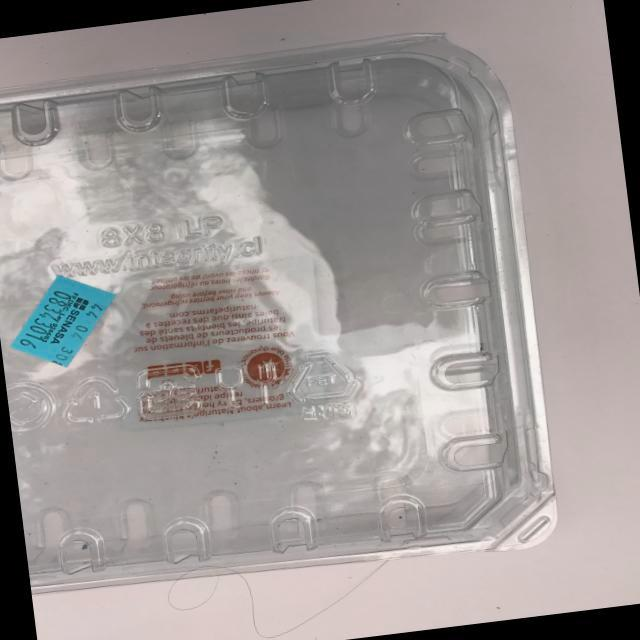plastic: (0, 13, 598, 614)
